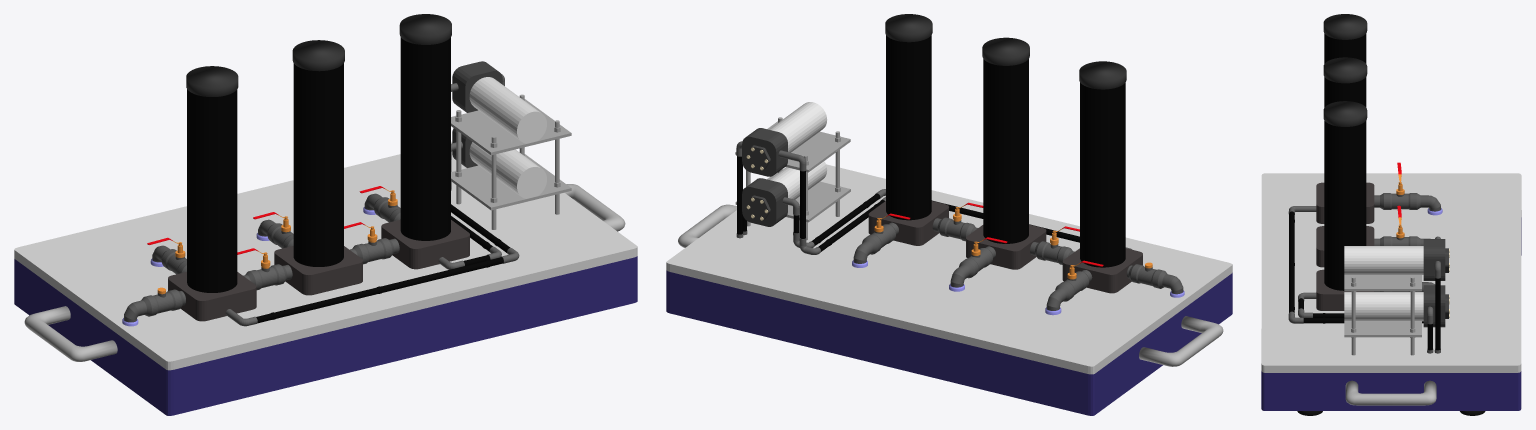
File: hydraulic3tubes.fbx
3 renders of one model, left to right at view 1: azimuth 30°, elevation 25°; view 2: azimuth 150°, elevation 25°; view 3: azimuth 270°, elevation 25°, orthographic. The views are drawn at different scales.
Visible parts, largest first — view 1: HydroPump, H1, H3, H2, Tube 01; view 2: HydroPump, H3, H1, H2, Tube 03; view 3: HydroPump, H1, H2, H3, Tube 01, Tube 07.
Part boxes in pixels (left/top/right/bottom): HydroPump: left=14, top=14, right=637, bottom=415; H1: left=400, top=37, right=450, bottom=240; H3: left=187, top=89, right=237, bottom=292; H2: left=293, top=63, right=343, bottom=266; Tube 01: left=256, top=257, right=503, bottom=323; HydroPump: left=666, top=14, right=1232, bottom=415; H3: left=1080, top=82, right=1125, bottom=267; H1: left=886, top=35, right=931, bottom=220; H2: left=983, top=59, right=1028, bottom=243; Tube 03: left=811, top=193, right=880, bottom=246; HydroPump: left=1261, top=14, right=1521, bottom=415; H1: left=1324, top=121, right=1366, bottom=290; H2: left=1324, top=77, right=1366, bottom=107; H3: left=1324, top=33, right=1366, bottom=63; Tube 01: left=1289, top=211, right=1294, bottom=312; Tube 07: left=1435, top=278, right=1440, bottom=350.
Size of the model in its own units: 130 by 66.42 by 63.26.
